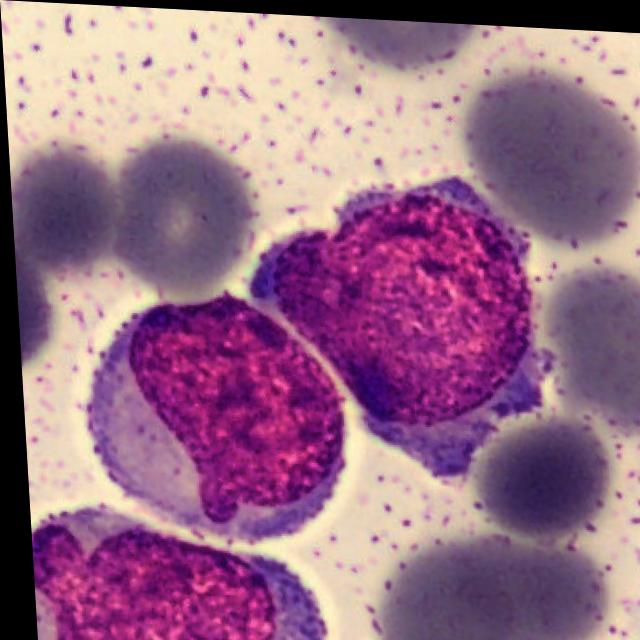Mieloblasto: (246, 173, 534, 470), (83, 292, 343, 538)
